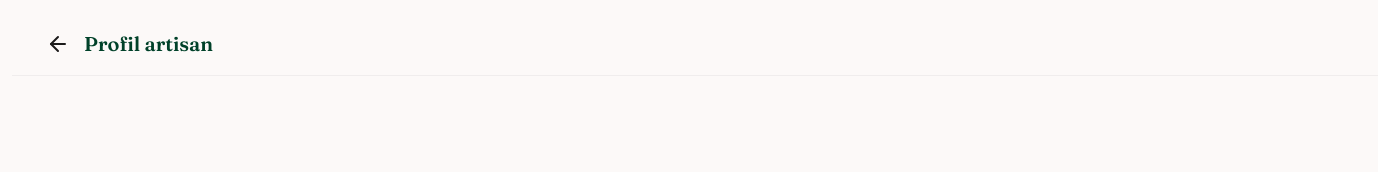
Scenario: AppBar › revient à la page précédente de l’app quand elle existe
Step 1. Click the button named "Retour" → x=58, y=44, box [36,22,80,66]
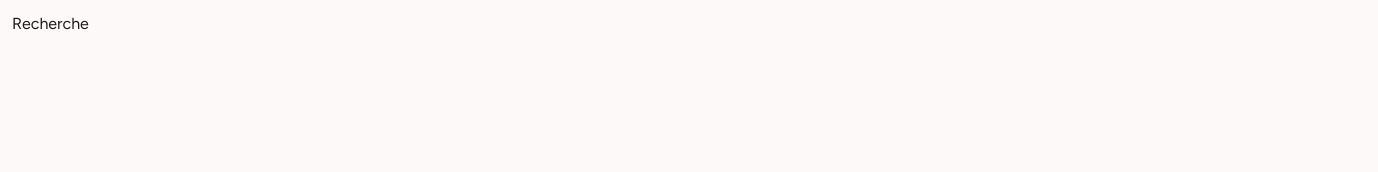
Expected: the text "Recherche" is shown, [12,14,89,33]
